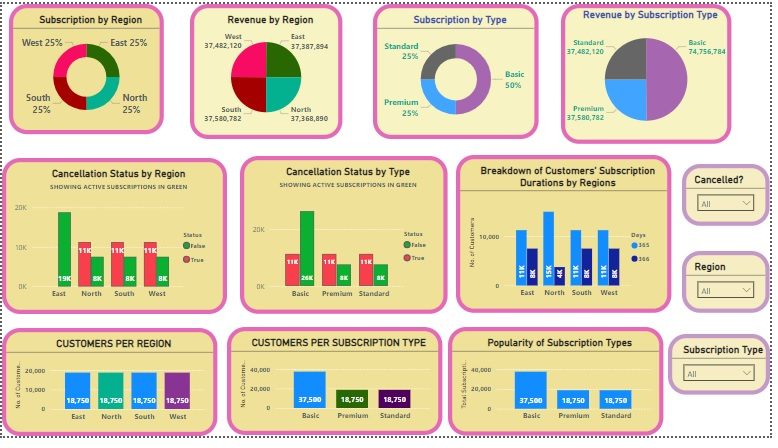

This screenshot's page, from the dashboard's own definition file:
{"tool":"powerbi","page":{"name":"Customer Data","canvas":[1280,720],"ordinal":0},"visuals":[{"type":"donutChart","title":"Subscription by Region","fields":{"Category":["Customer Report.Region"],"Y":["Sum(Customer Report.Subscription Number)"]},"box":[11,0,258,217],"z":0},{"type":"pieChart","title":"Revenue by Region","fields":{"Category":["Customer Report.Region"],"Y":["Sum(Customer Report.Revenue)"]},"box":[312.5,0,253.8,225],"z":1000},{"type":"donutChart","title":"Subscription by Type","fields":{"Category":["Customer Report.SubscriptionType"],"Y":["Sum(Customer Report.Subscription Number)"]},"box":[617.5,0,276.2,225],"z":2000},{"type":"pieChart","title":"Revenue by Subscription Type","fields":{"Category":["Customer Report.SubscriptionType"],"Y":["Sum(Customer Report.Revenue)"]},"box":[931.2,0,283.8,232.5],"z":3000},{"type":"clusteredColumnChart","title":"Cancellation Status by Region","fields":{"Category":["Customer Report.Region"],"Series":["Customer Report.Canceled"],"Y":["CountNonNull(Customer Report.Canceled)"]},"box":[0,256.2,375,260],"z":4000},{"type":"clusteredColumnChart","title":"Cancellation Status by Type","fields":{"Series":["Customer Report.Canceled"],"Y":["CountNonNull(Customer Report.Canceled)"],"Category":["Customer Report.SubscriptionType"]},"box":[396.2,253.8,346.2,262.5],"z":5000},{"type":"clusteredColumnChart","title":"Popularity of Subscription Types","fields":{"Category":["Customer Report.SubscriptionType"],"Y":["Sum(Customer Report.Subscription Number)"]},"box":[742.5,538.8,358.8,181.2],"z":6000},{"type":"clusteredColumnChart","title":"CUSTOMERS PER REGION","fields":{"Y":["CountNonNull(Customer Report.CustomerID)"],"Category":["Customer Report.Region"]},"box":[0,540,358.8,180],"z":7000},{"type":"clusteredColumnChart","title":"CUSTOMERS PER SUBSCRIPTION TYPE","fields":{"Y":["CountNonNull(Customer Report.CustomerID)"],"Category":["Customer Report.SubscriptionType"]},"box":[375,538.8,358.8,180],"z":8000},{"type":"clusteredColumnChart","title":"Breakdown of Customers'' Subscription Durations by Regions","fields":{"Y":["CountNonNull(Customer Report.CustomerID)"],"Series":["Customer Report.Subscription Duration"],"Category":["Customer Report.Region"]},"box":[756.2,251.2,358.8,262.5],"z":9000},{"type":"slicer","title":"Subscription Type","fields":{"Values":["Customer Report.SubscriptionType"]},"box":[1110,550,170,101.2],"z":9002},{"type":"slicer","title":"Cancelled?","fields":{"Values":["Customer Report.Canceled"]},"box":[1133.8,266.2,146.2,102.5],"z":9003},{"type":"slicer","title":"Region","fields":{"Values":["Customer Report.Region"]},"box":[1133.8,411.2,146.2,102.5],"z":9004}]}

Visuals, with their boxes in screenshot pixels (x1, y1, x2, y2), scaled from the page's 1280x720 canvas onto the 778x448 screenshot:
"Subscription by Region" donutChart: x1=7 y1=0 x2=164 y2=135
"Revenue by Region" pieChart: x1=190 y1=0 x2=344 y2=140
"Subscription by Type" donutChart: x1=375 y1=0 x2=543 y2=140
"Revenue by Subscription Type" pieChart: x1=566 y1=0 x2=738 y2=145
"Cancellation Status by Region" clusteredColumnChart: x1=0 y1=159 x2=228 y2=321
"Cancellation Status by Type" clusteredColumnChart: x1=241 y1=158 x2=451 y2=321
"Popularity of Subscription Types" clusteredColumnChart: x1=451 y1=335 x2=669 y2=447
"CUSTOMERS PER REGION" clusteredColumnChart: x1=0 y1=336 x2=218 y2=447
"CUSTOMERS PER SUBSCRIPTION TYPE" clusteredColumnChart: x1=228 y1=335 x2=446 y2=447
"Breakdown of Customers'' Subscription Durations by Regions" clusteredColumnChart: x1=460 y1=156 x2=678 y2=320
"Subscription Type" slicer: x1=675 y1=342 x2=777 y2=405
"Cancelled?" slicer: x1=689 y1=166 x2=777 y2=229
"Region" slicer: x1=689 y1=256 x2=777 y2=320
